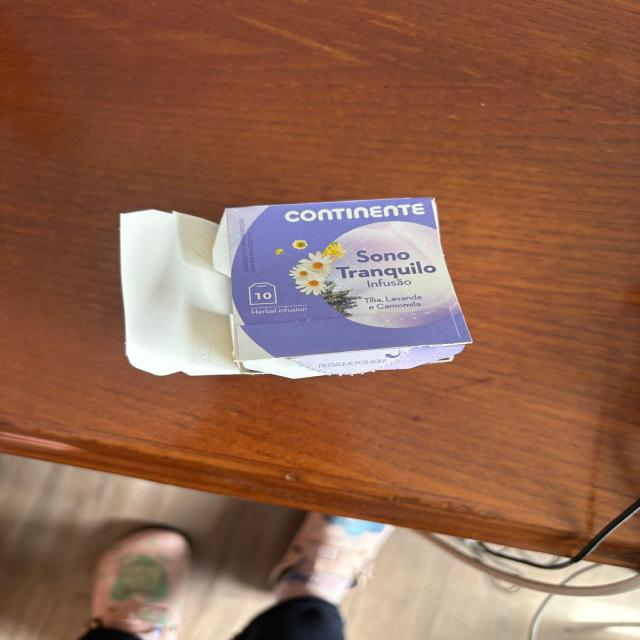damaged_package: (119, 196, 475, 381)
